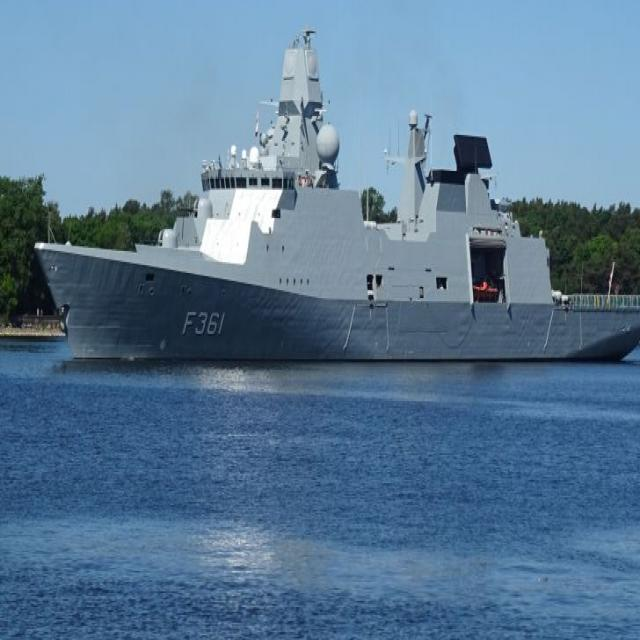Fragata: (30, 4, 640, 371)
